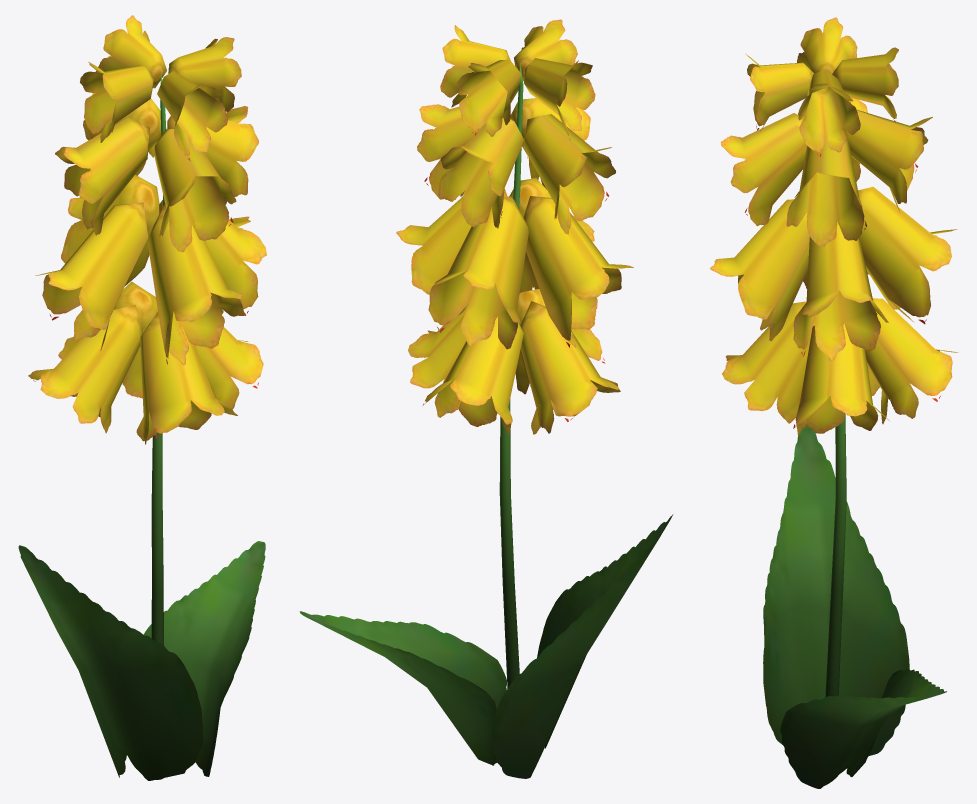
The model's file is flower-4.glb.
3 renders of one model, left to right at view 1: azimuth 30°, elevation 25°; view 2: azimuth 150°, elevation 25°; view 3: azimuth 270°, elevation 25°, orthographic.
Parts seen in each view (by area): view 1: Flower_4_Single; view 2: Flower_4_Single; view 3: Flower_4_Single.
Part boxes in pixels (x1=…): Flower_4_Single: x1=18, y1=15, x2=266, y2=780; Flower_4_Single: x1=299, y1=19, x2=673, y2=778; Flower_4_Single: x1=710, y1=17, x2=958, y2=788.
Bounding box in the file's own units: 0.133 × 0.3 × 0.0958.
2 materials, 2 textured.
